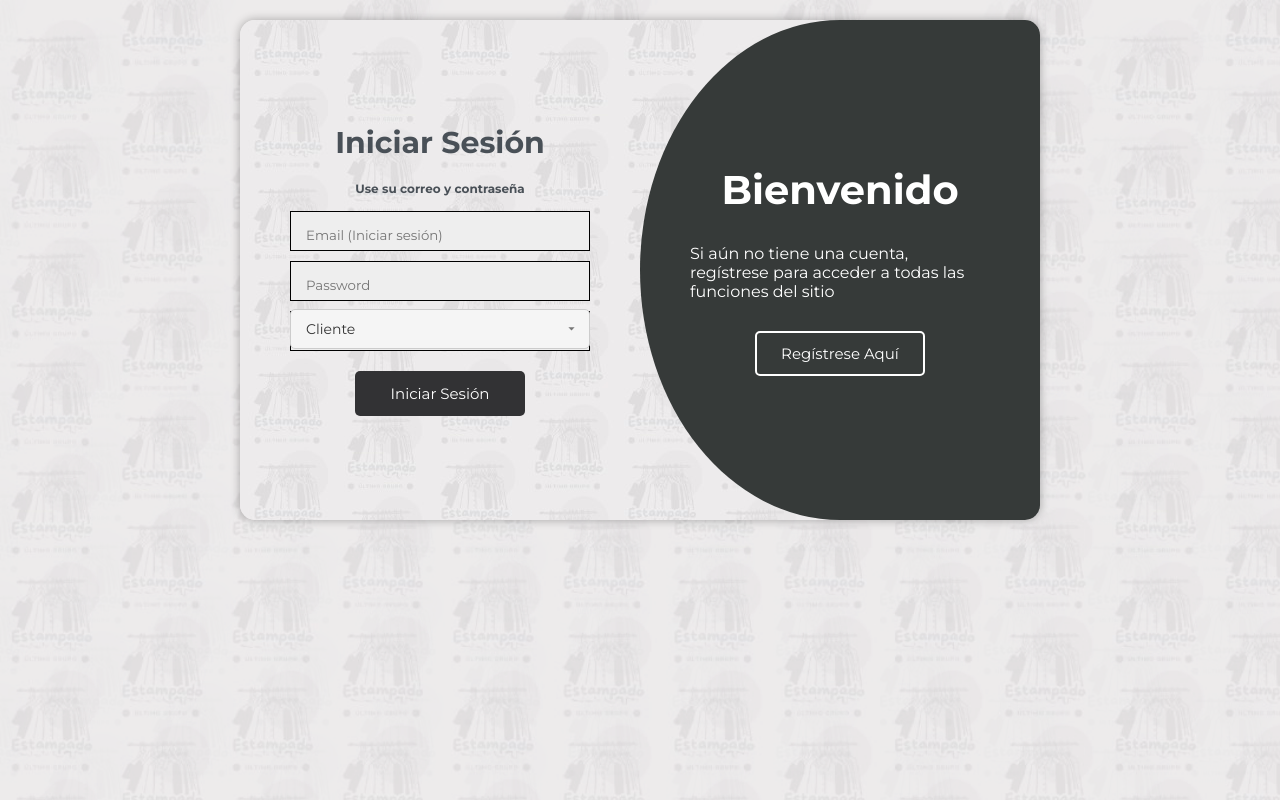
Scenario: IniciarSesion Component › Muestra los errores al poner datos invalidos
In the field with test id "email-input-login": (440, 235) [306,220,574,250], type "invalid@gmail.com"
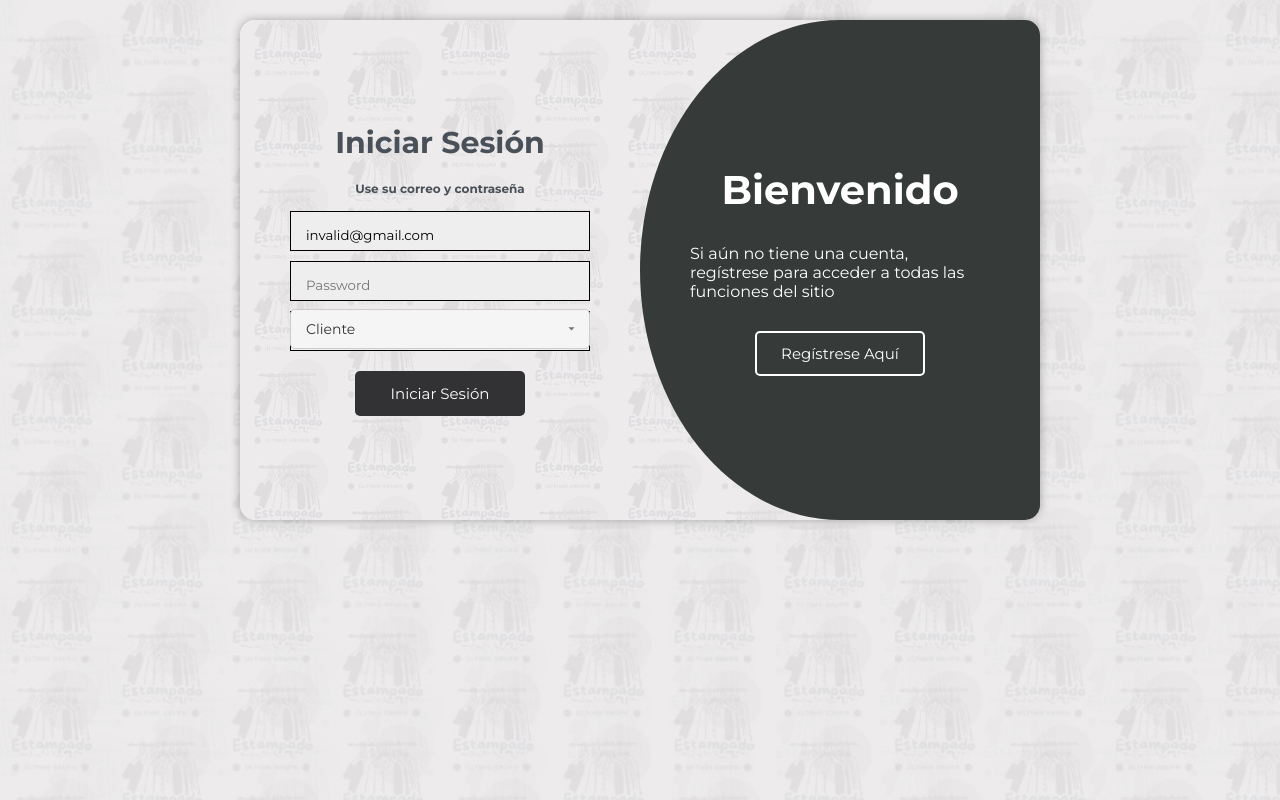
In the password field with test id "password-input-login": (440, 285) [306,270,574,300], type "wrongpassword"
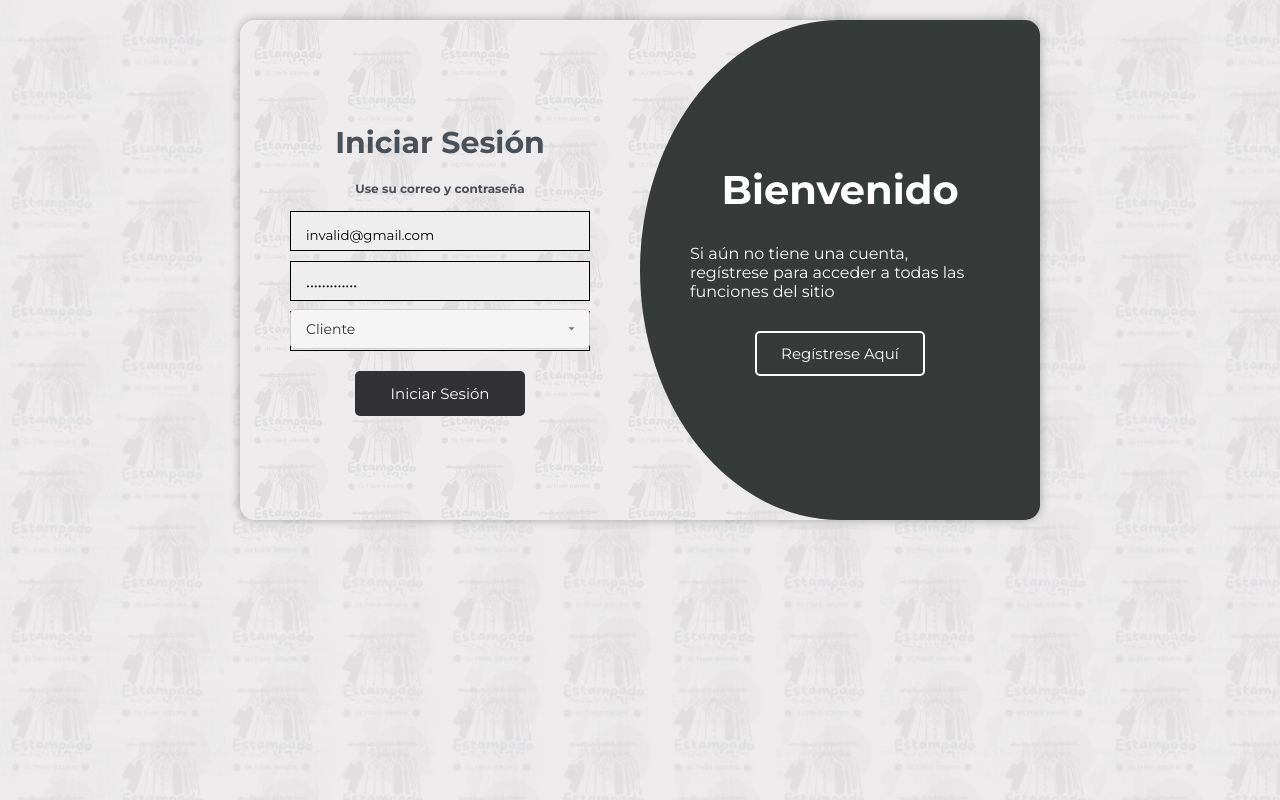
Click the button with test id "login-button": (440, 394) [355,371,525,416]
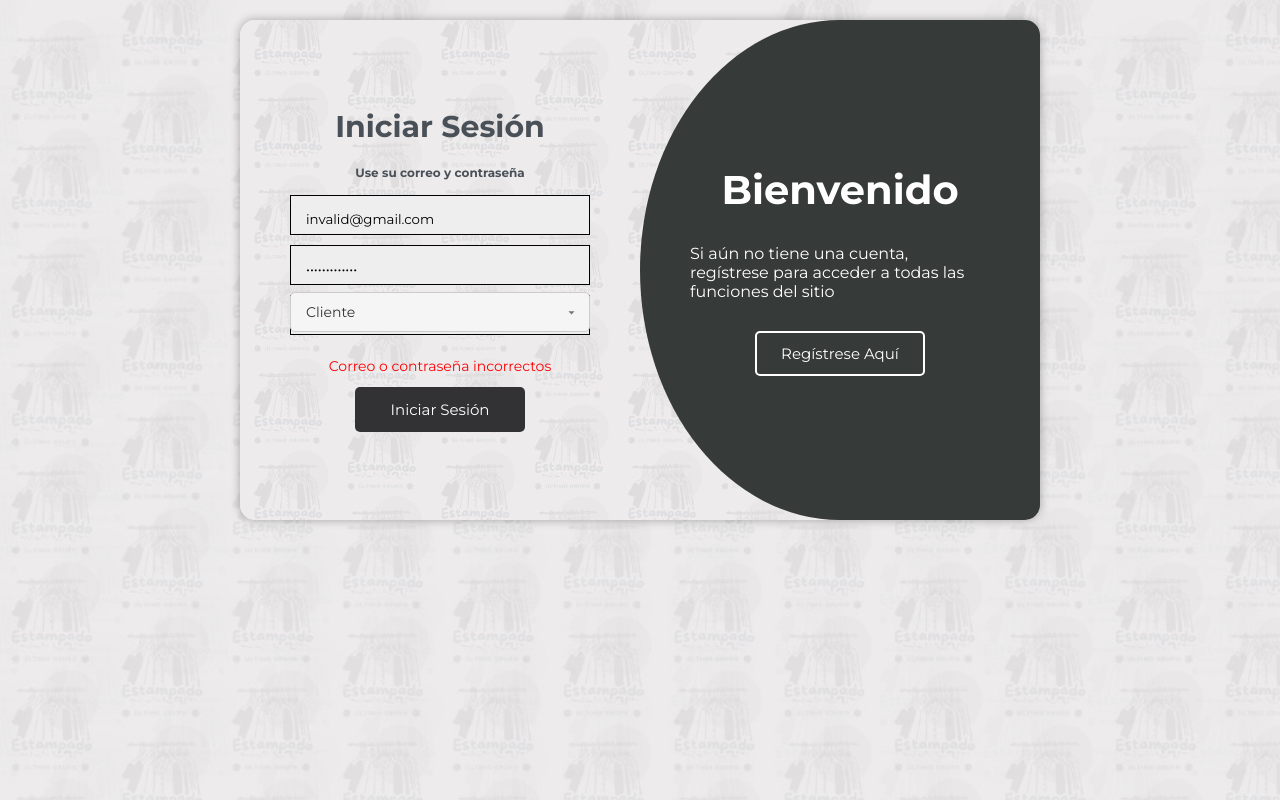
Expected: the text "Correo o contraseña incorrectos" is shown, [329,355,551,377]
